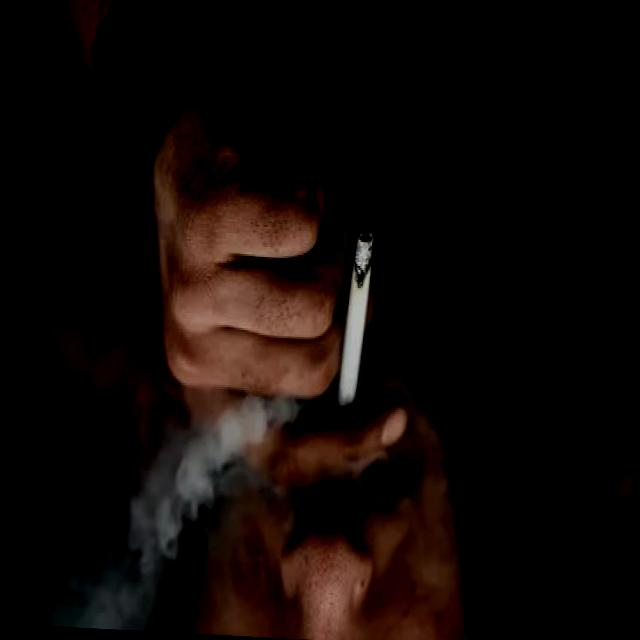smoke: (328, 227, 379, 413)
